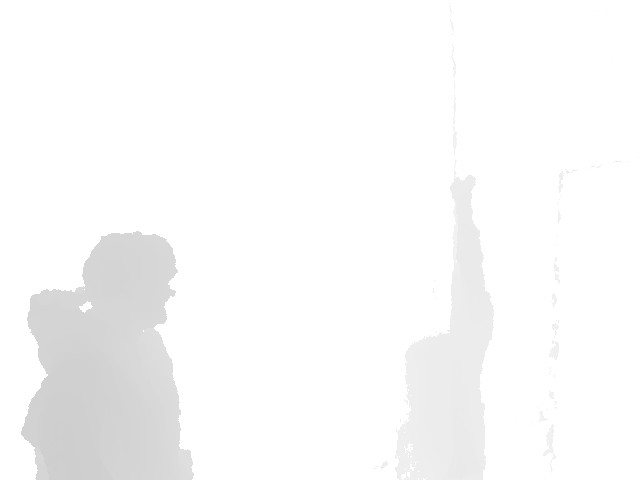hand: (450, 174, 475, 221)
head: (80, 231, 177, 327)
person: (19, 232, 197, 480), (394, 174, 495, 480)
